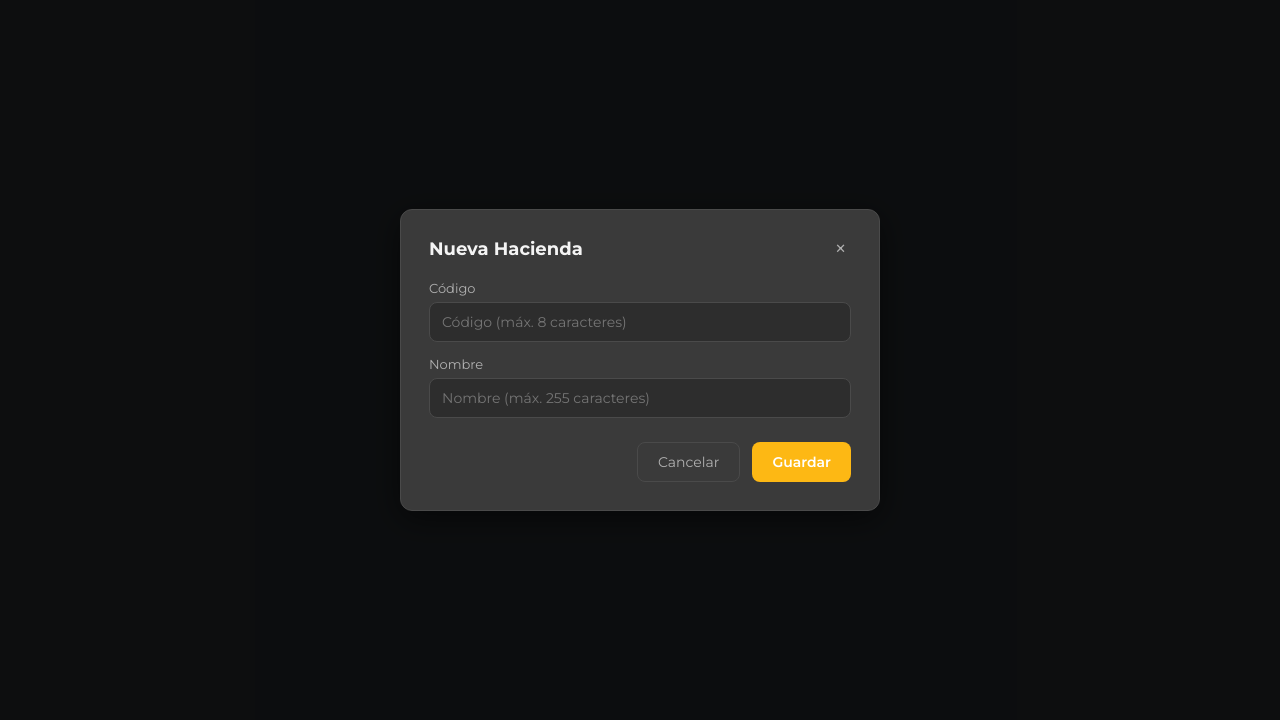
Test: HaciendaFormModal › Create mode (R8) › valida que Nombre es requerido
This screenshot has width=1280, height=720.
Type "HC001" into the field with placeholder "Código (máx. 8 caracteres)" at (640,322), box [429, 302, 851, 342]
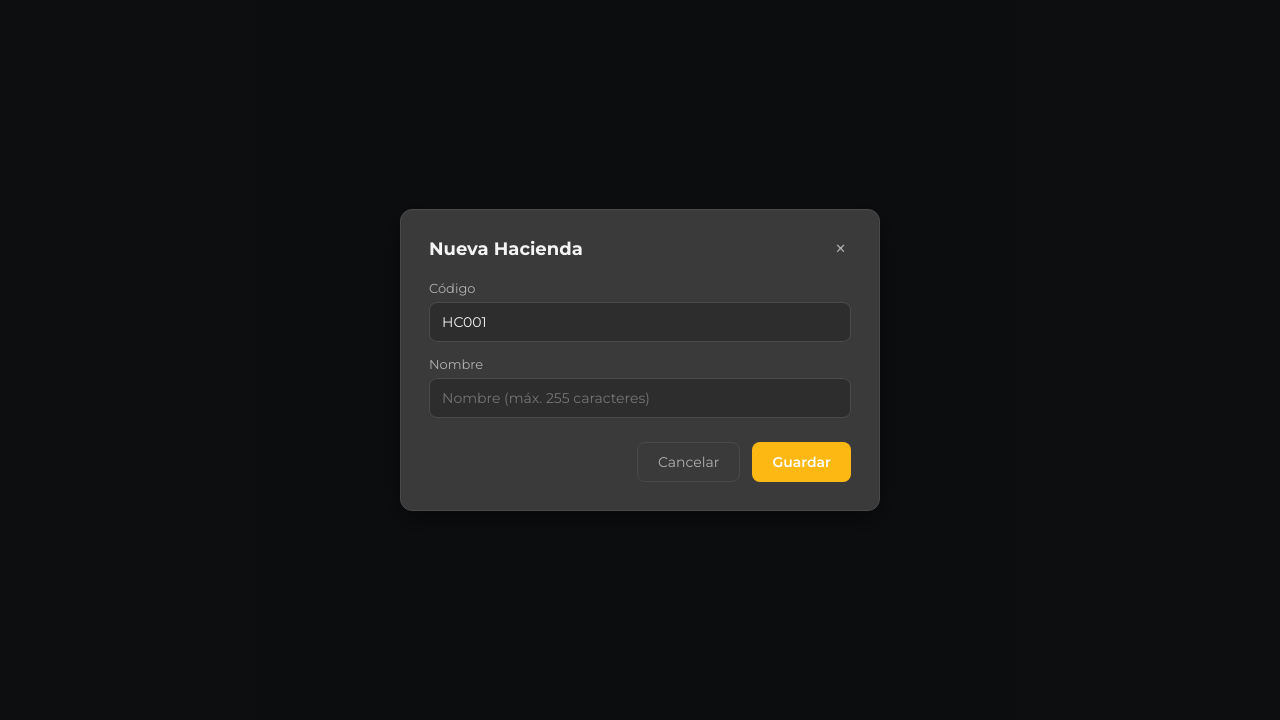
Click the button "Guardar" at (802,462), box [752, 442, 851, 482]
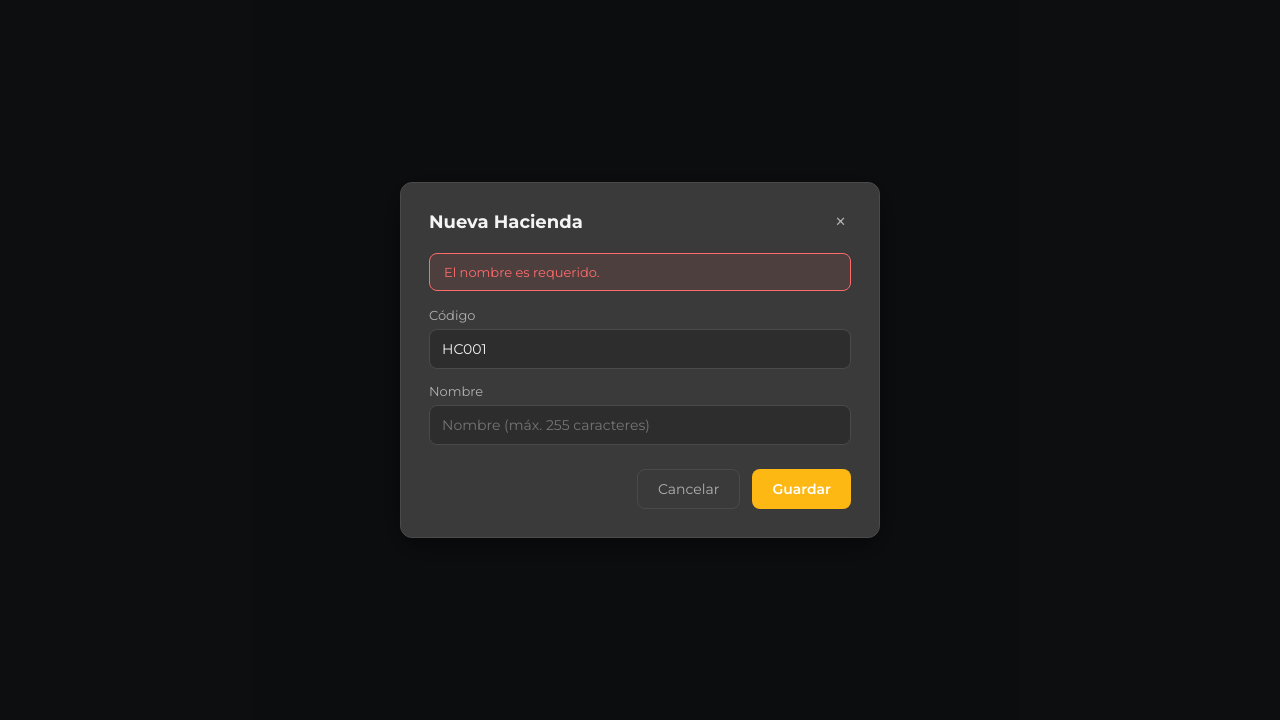
Result: the text "El nombre es requerido." is shown at [429, 253, 851, 291]
